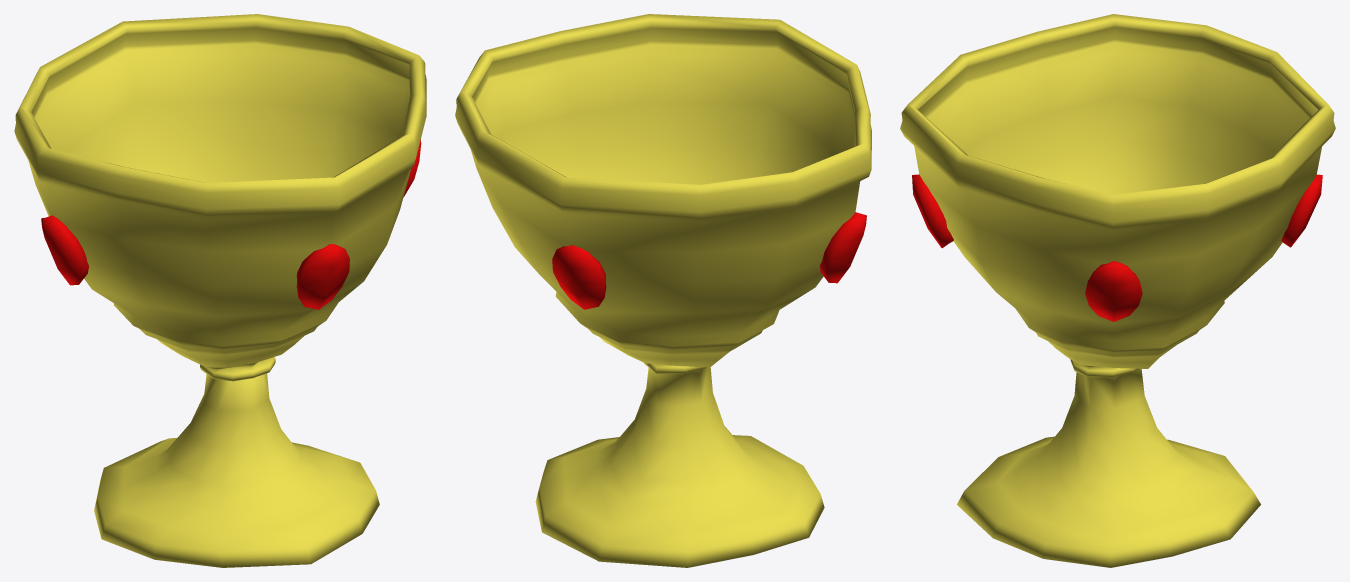
File: V_Medieval07_Graal.fbx
3 renders of one model, left to right at view 1: azimuth 30°, elevation 25°; view 2: azimuth 150°, elevation 25°; view 3: azimuth 270°, elevation 25°, orthographic. The views are drawn at different scales.
Visible parts, largest first — view 1: Plane; view 2: Plane; view 3: Plane.
Boxes of the visible parts, x1,y1,x2,y2 form: Plane: (14,14,426,567); Plane: (455,14,871,567); Plane: (900,14,1335,567).
Bounding box in the file's own units: 15.04 × 14.95 × 14.76.
